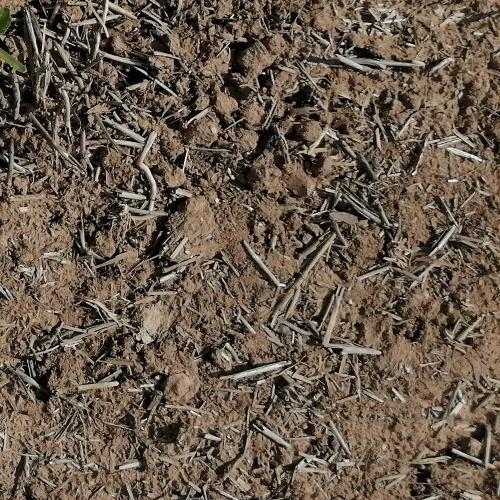beet: (0, 7, 30, 71)
